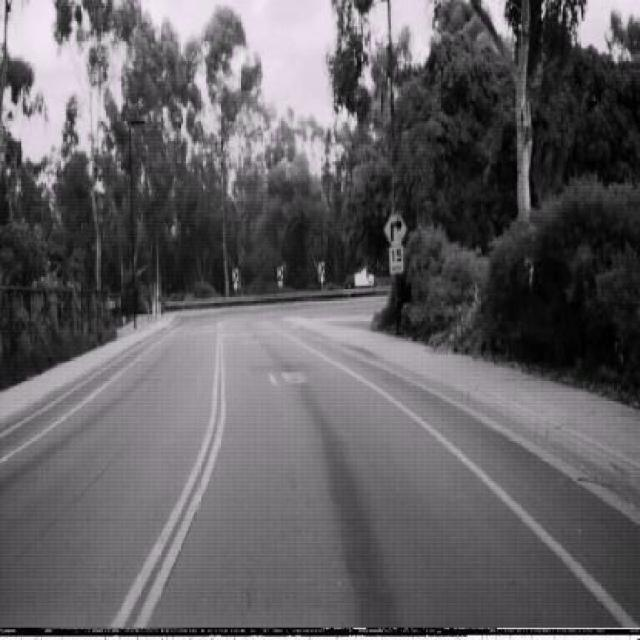turnRight: (383, 206, 407, 251)
